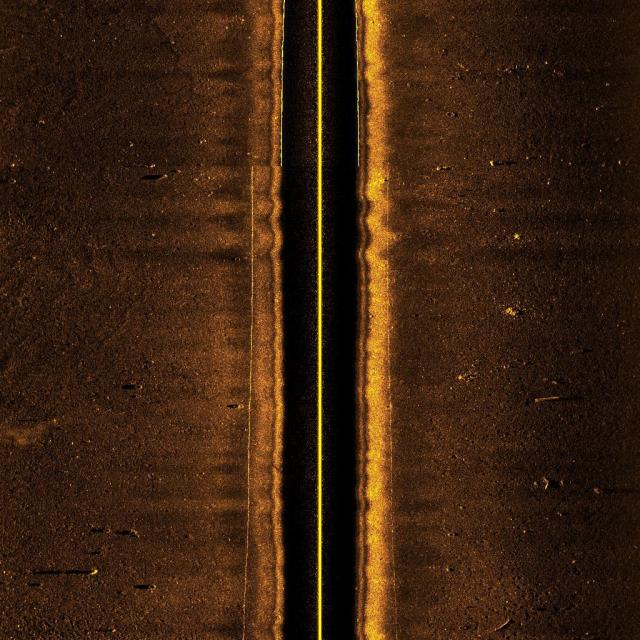mine: (33, 566, 108, 584), (531, 394, 589, 406)
